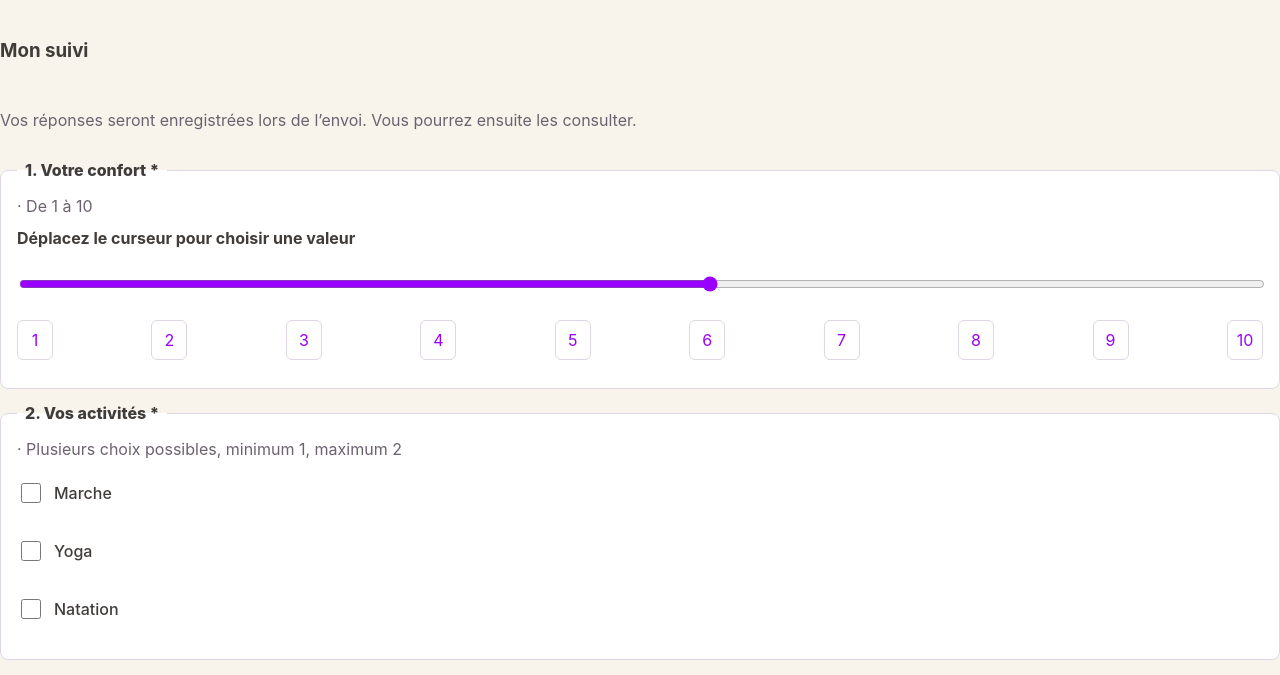
it: patient questionnaire form › allows choosing a slider endpoint and rejects too many checkbox answers
Click the button named "Choisir 1 pour Votre confort": [35, 340] box left=17, top=320, right=53, bottom=360
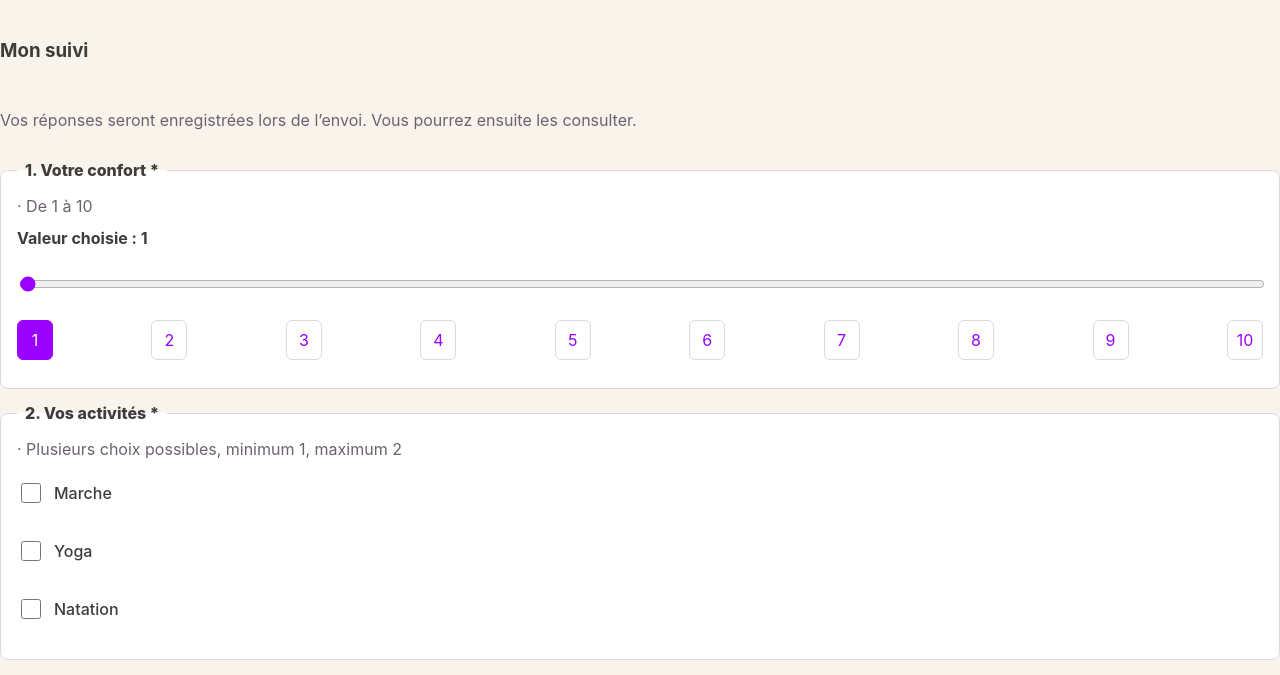
Now the slider holds "1", box left=19, top=262, right=1265, bottom=306
Click the checkbox labelled "Marche": [31, 493] box left=21, top=483, right=41, bottom=503
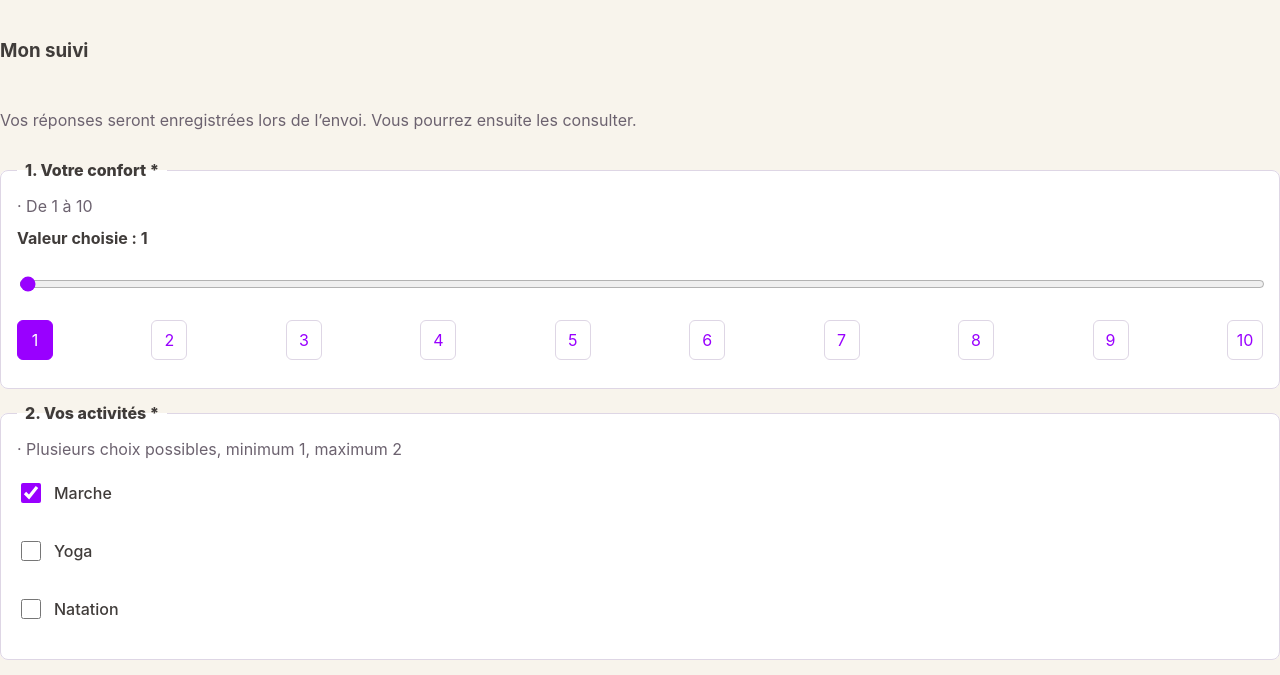
Click the checkbox labelled "Yoga": [31, 551] box left=21, top=541, right=41, bottom=561
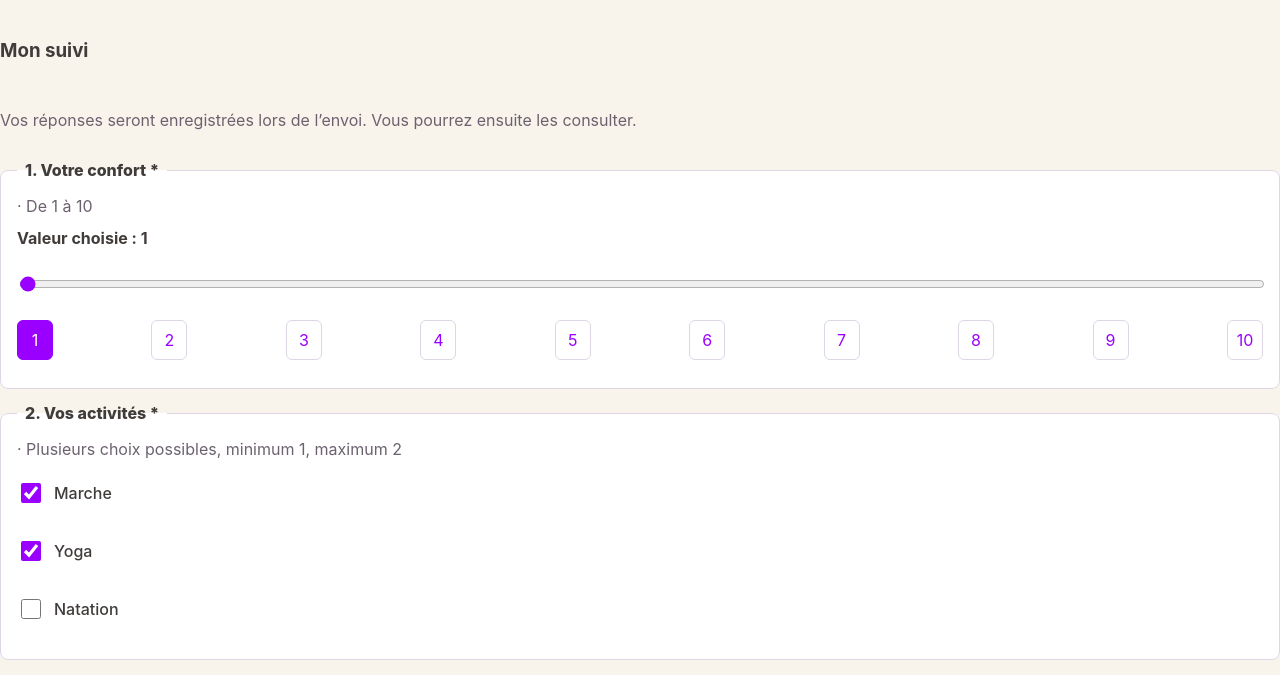
Click the checkbox labelled "Natation": [31, 609] box left=21, top=599, right=41, bottom=619
(page scrolled)
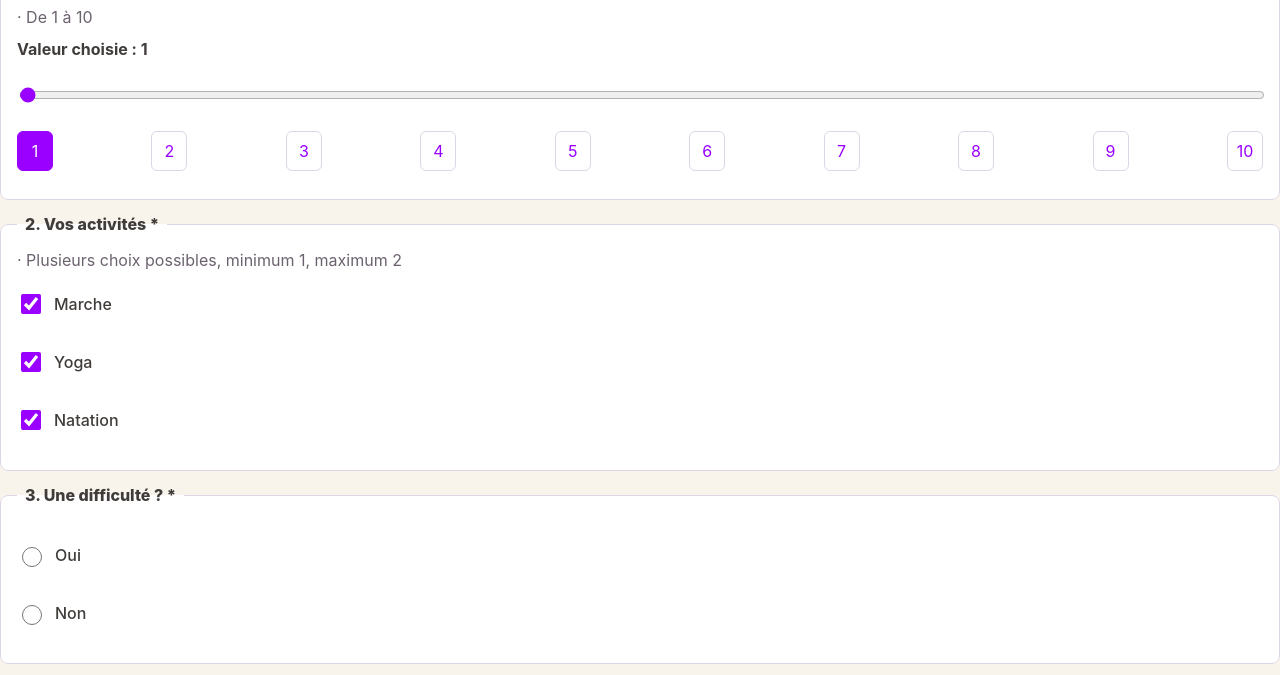
Click the radio button labelled "Oui": [32, 557] box left=22, top=547, right=42, bottom=567
(page scrolled)
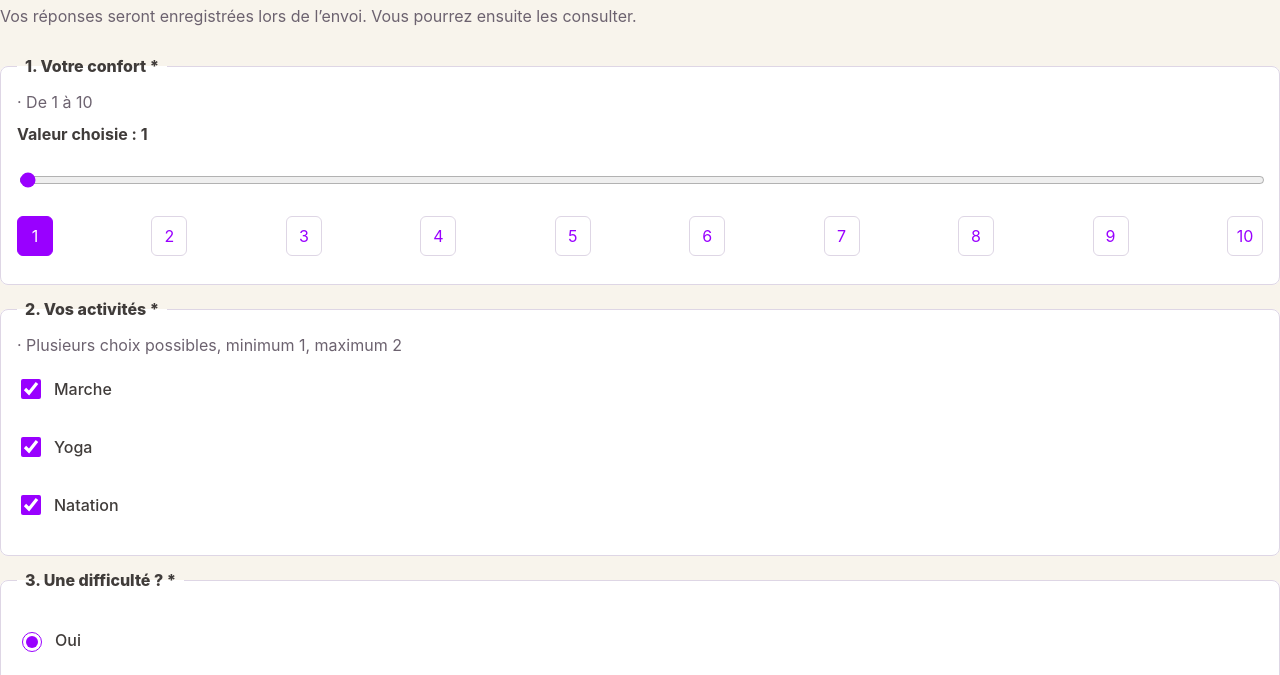
Submit the form
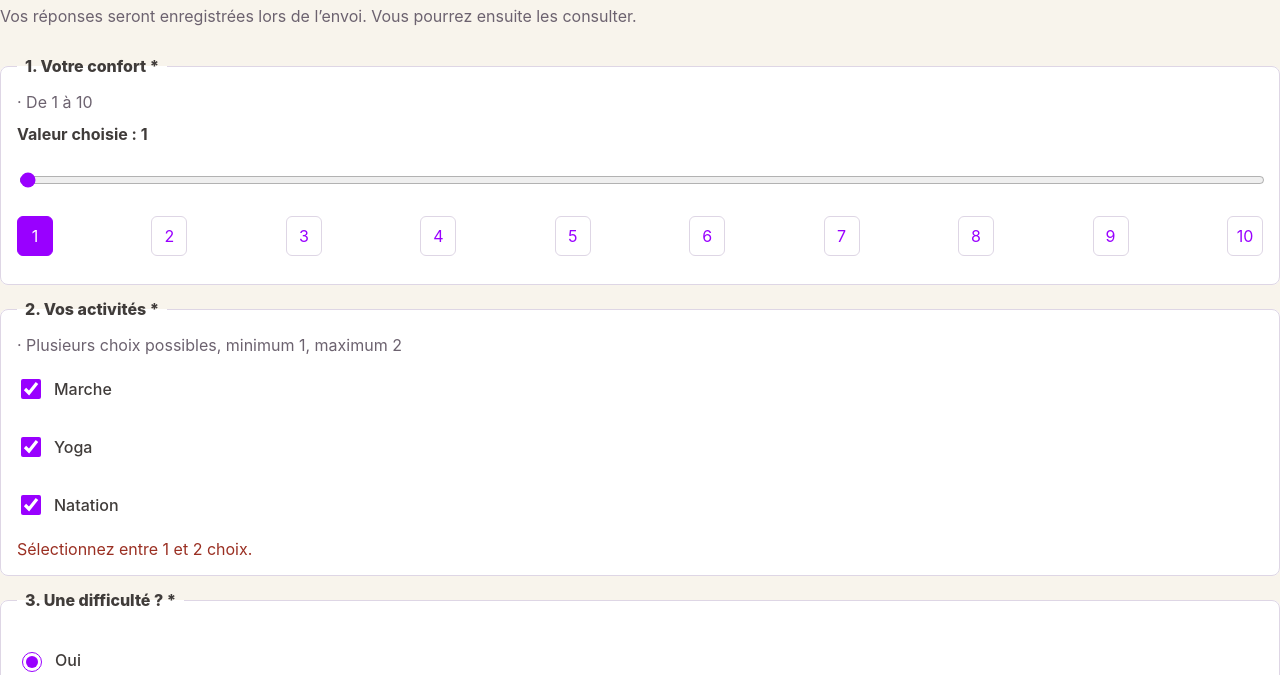
Now the text "Sélectionnez entre 1 et 2 choix." is shown, box left=17, top=539, right=252, bottom=559
